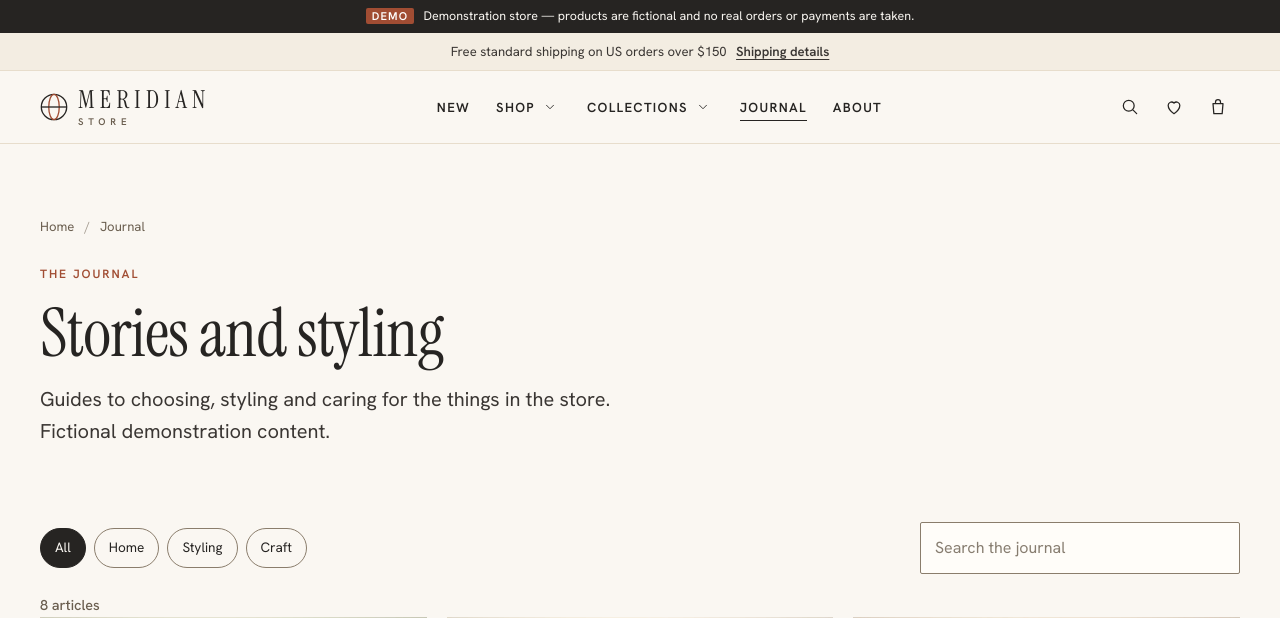
Test: collections, journal and static pages › filters journal articles by category and search
This screenshot has width=1280, height=618.
Expected: the heading "Stories and styling" is shown, x1=40 y1=289 x2=444 y2=377
Click the button "Craft" at (276,548), box x1=246 y1=528 x2=307 y2=568
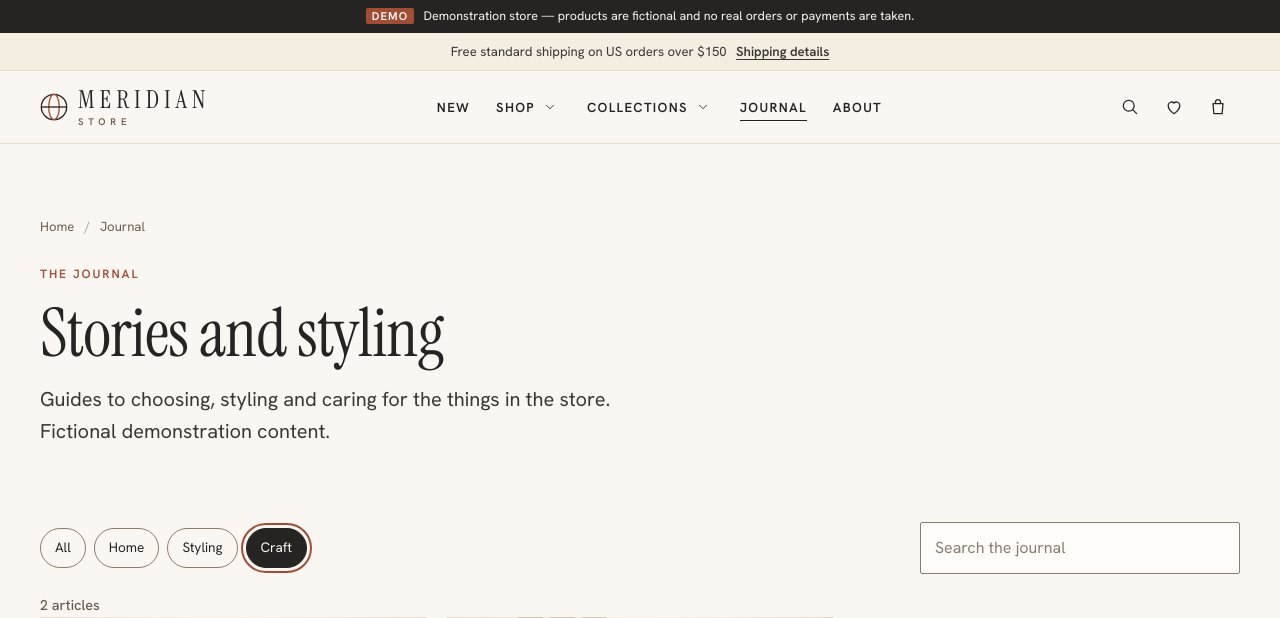
Now the text "2 articles" is shown, box x1=40 y1=596 x2=100 y2=614
Type "zzzz" into the search field named "Search articles" at (1080,548), box x1=920 y1=522 x2=1240 y2=574
(page scrolled)
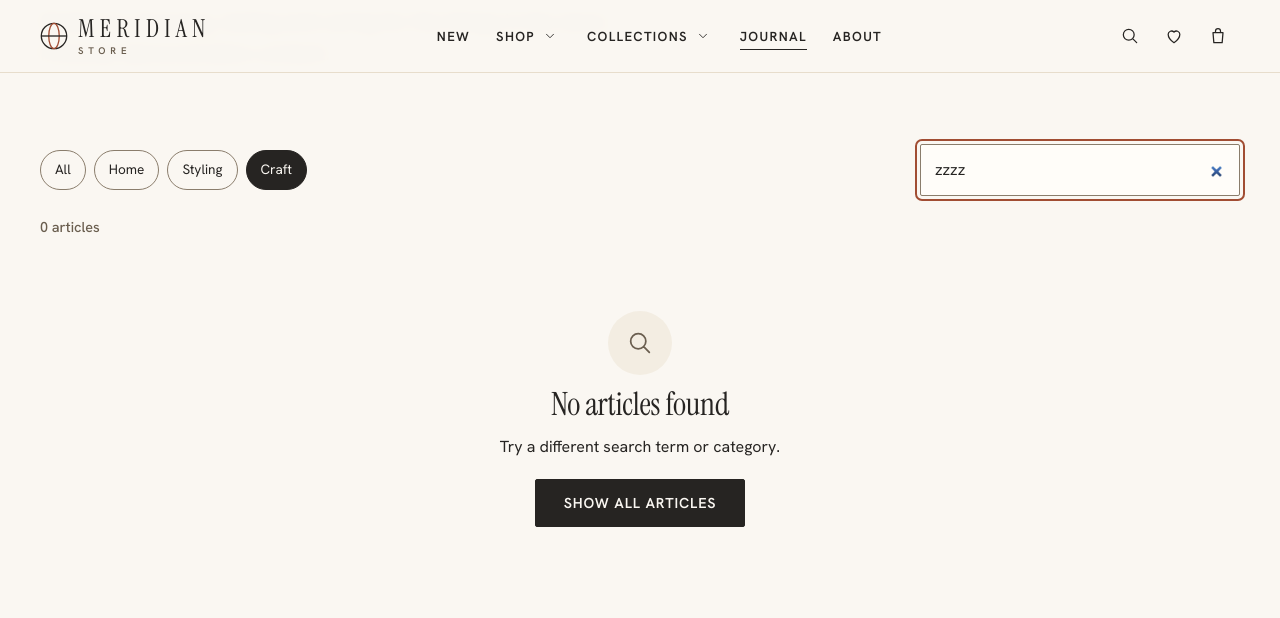
Now the heading "No articles found" is shown, box x1=551 y1=387 x2=729 y2=422
